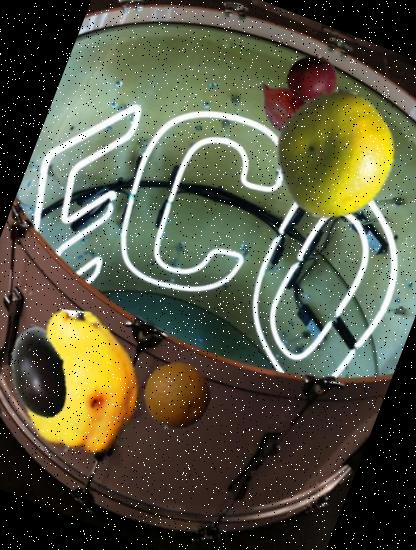Eggplant: (0, 308, 102, 436)
Nectarine: (279, 46, 345, 112)
Orange: (132, 353, 221, 442)
Pomelo: (251, 71, 416, 238)
Quince: (0, 290, 175, 479)
Salak: (235, 61, 341, 167)
